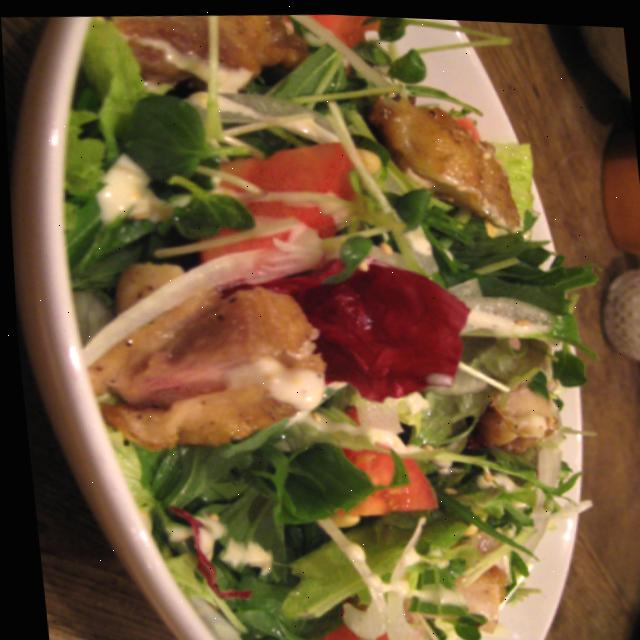蔬菜料理: (1, 0, 583, 640)
